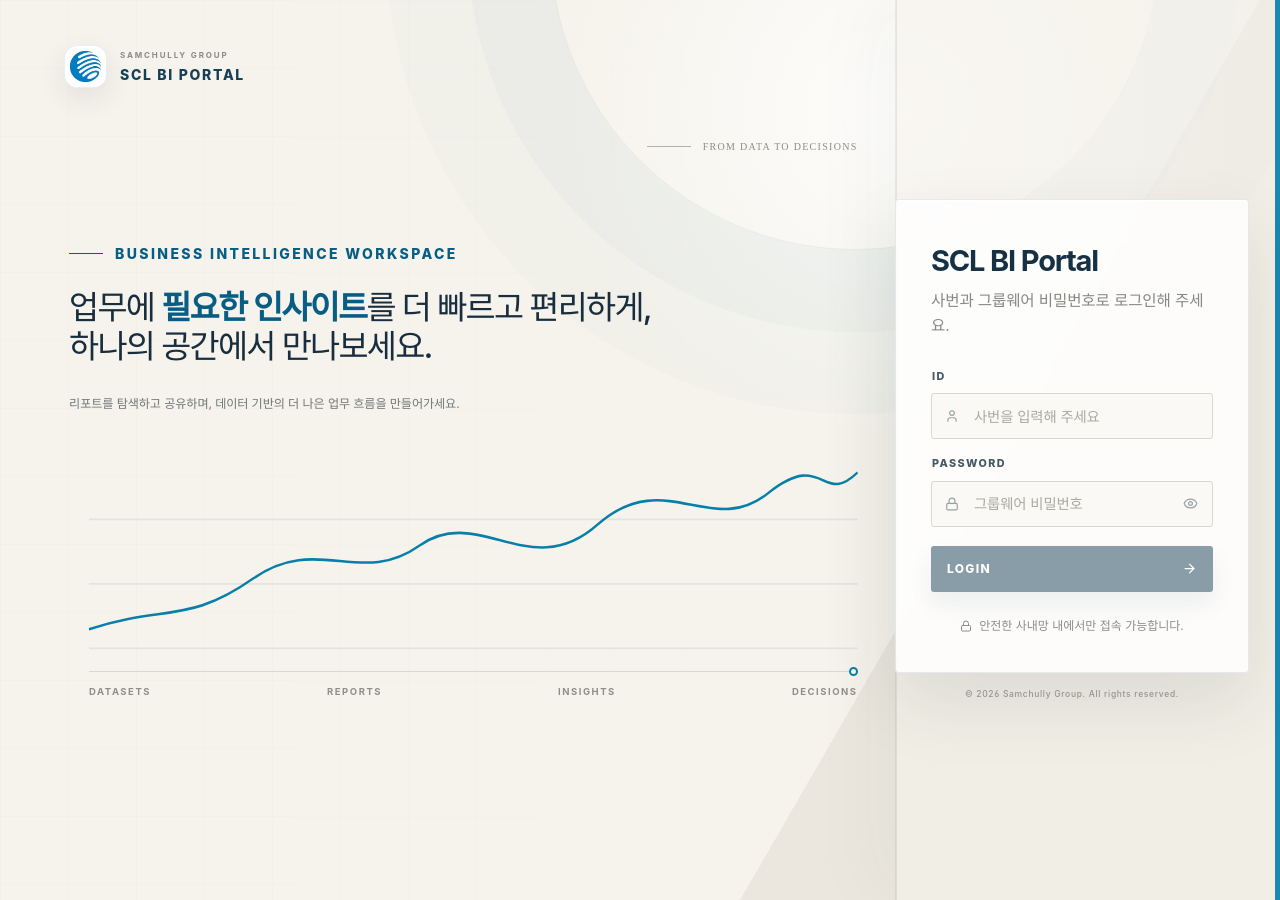
Test: LoginPage › 401 실패 시 한국어 오류 메시지를 표시한다
The image size is (1280, 900).
Type "1001" into the field labelled "ID" at (1072, 416), box top-left (931, 394), bottom-right (1213, 440)
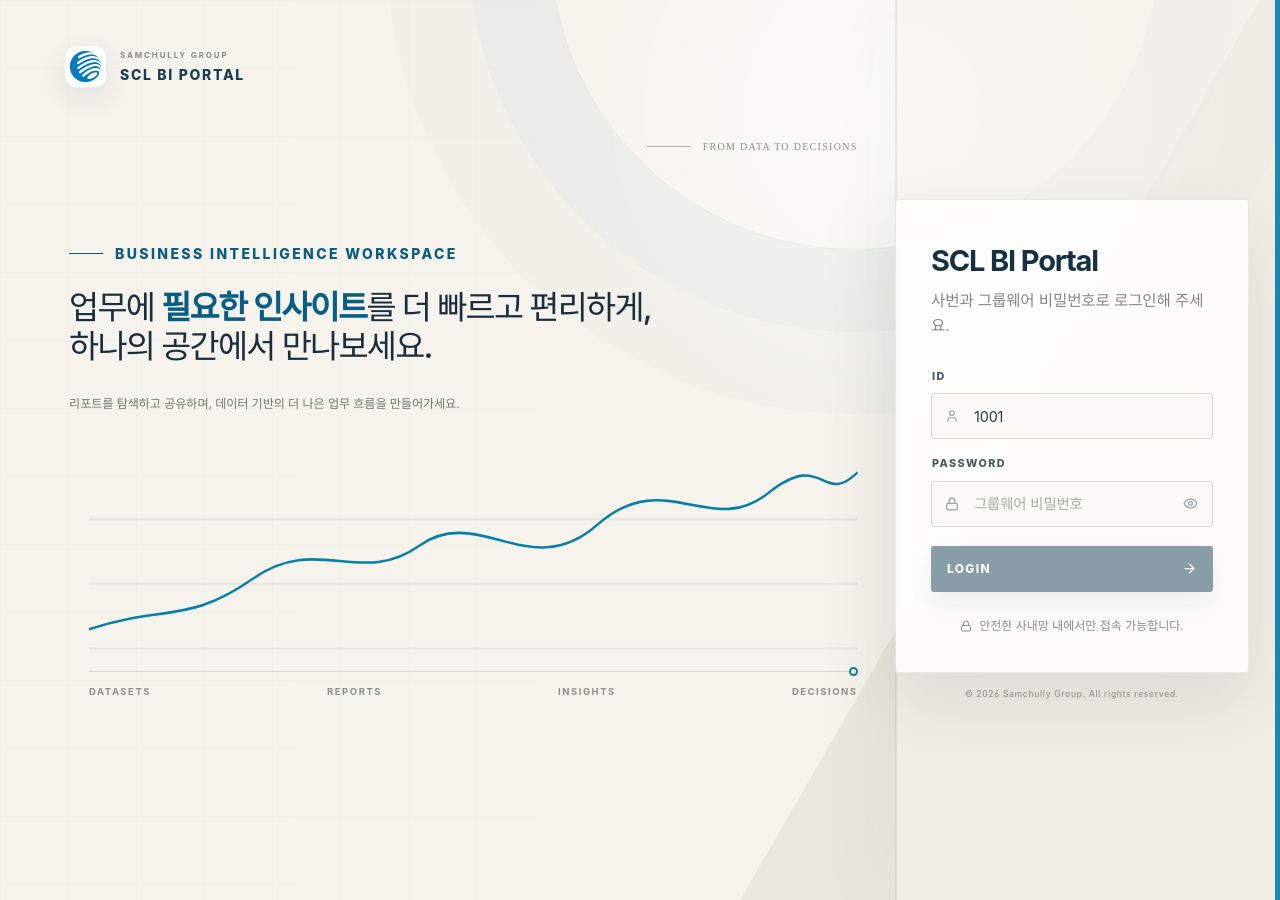
Type "bad" into the password field labelled "Password" at (1072, 504), box top-left (931, 481), bottom-right (1213, 527)
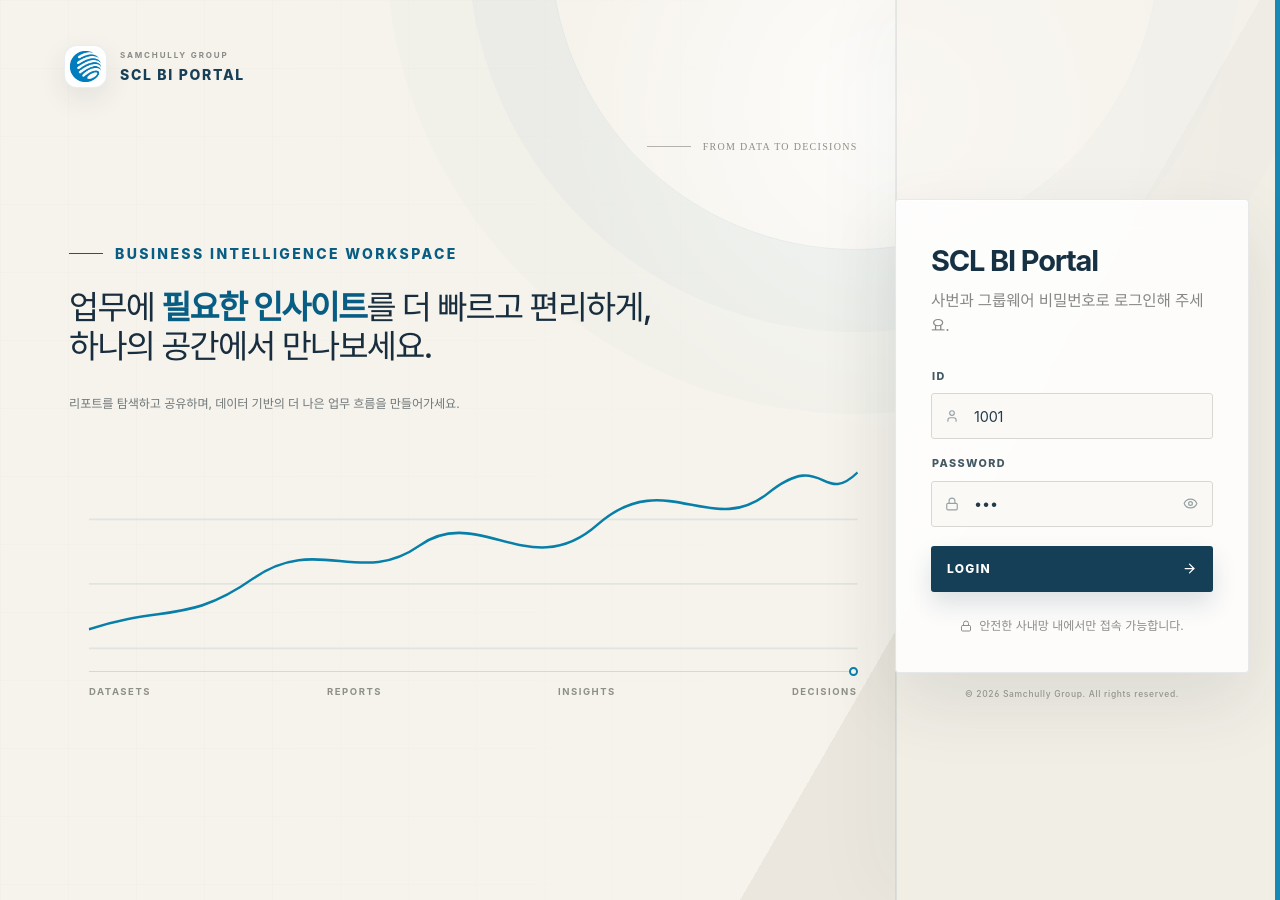
Click the button "Login" at (969, 568), box top-left (931, 546), bottom-right (1213, 592)
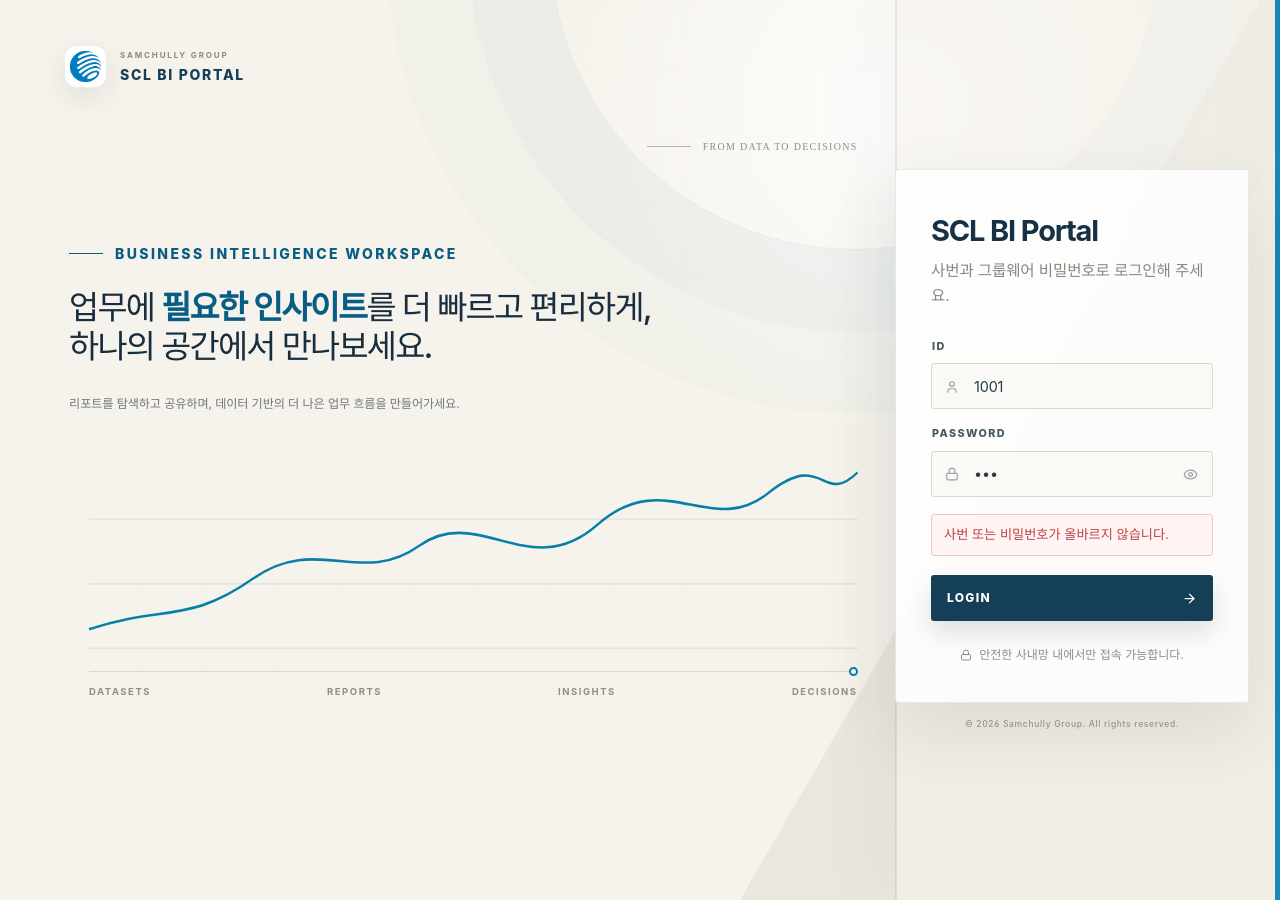
Result: the message reads "사번 또는 비밀번호가 올바르지 않습니다." at top-left (944, 526), bottom-right (1169, 542)
